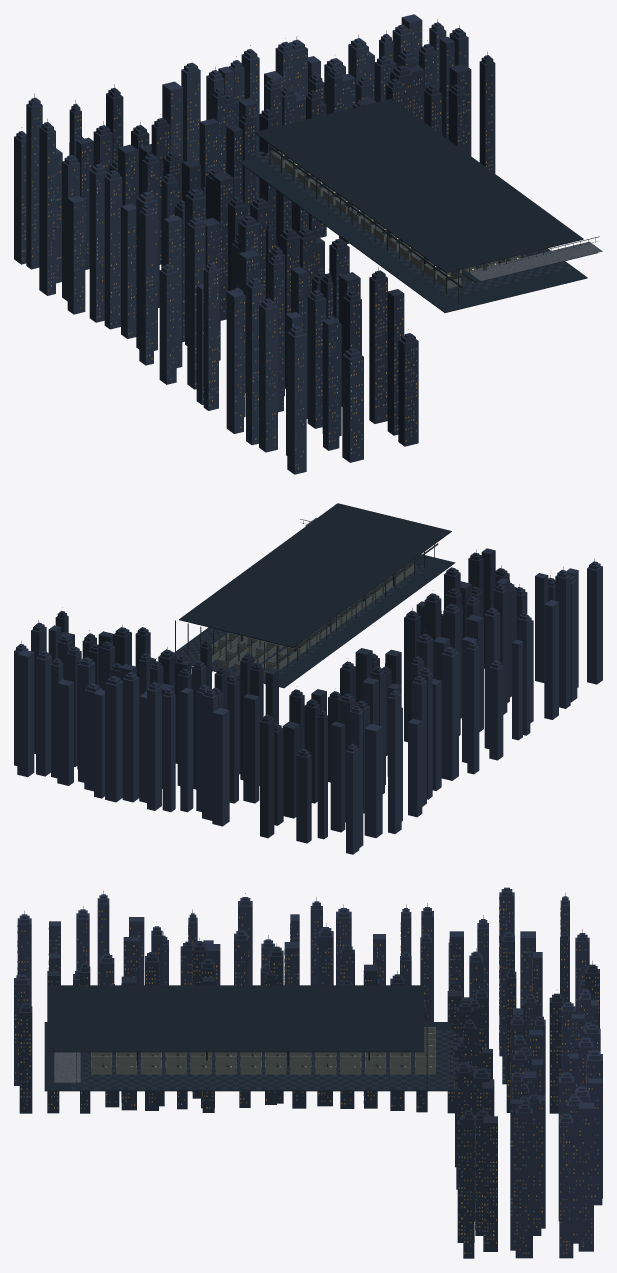
The model's file is canqi-night-office.glb.
3 views of the same model, one above another, from view 1: azimuth 30°, elevation 25°; view 2: azimuth 150°, elevation 25°; view 3: azimuth 270°, elevation 25° (orthographic). The views are drawn at different scales.
Parts seen in each view (by area): view 1: Runtime | City | atmospheric layer 2, Runtime | City | atmospheric layer 0, Runtime | City | atmospheric layer 1, Runtime | Architecture | acoustic ceiling, Runtime | Office | blue charcoal carpet, Runtime | Office | grey green partitions, Runtime | Office | alternating carpet, Runtime | Architecture | graphite metal; view 2: Runtime | City | atmospheric layer 2, Runtime | City | atmospheric layer 1, Runtime | City | atmospheric layer 0, Runtime | Architecture | acoustic ceiling, Runtime | Office | blue charcoal carpet, Runtime | Office | grey green partitions, Runtime | Office | alternating carpet, Runtime | Architecture | graphite metal, Runtime | Office | partition edges; view 3: Runtime | Architecture | acoustic ceiling, Runtime | City | atmospheric layer 2, Runtime | City | atmospheric layer 0, Runtime | City | atmospheric layer 1, Runtime | Office | blue charcoal carpet, Runtime | Office | grey green partitions, Runtime | Office | alternating carpet, Runtime | Office | partition edges.
Part boxes in pixels (x1,y1,x2,y2): Runtime | City | atmospheric layer 2: (14,14,446,474); Runtime | City | atmospheric layer 0: (106,52,495,446); Runtime | City | atmospheric layer 1: (69,25,468,462); Runtime | Architecture | acoustic ceiling: (254,98,583,272); Runtime | Office | blue charcoal carpet: (239,154,597,312); Runtime | Office | grey green partitions: (272,151,525,288); Runtime | Office | alternating carpet: (255,150,571,296); Runtime | Architecture | graphite metal: (269,97,599,303); Runtime | City | atmospheric layer 2: (14,559,602,854); Runtime | City | atmospheric layer 1: (31,573,555,843); Runtime | City | atmospheric layer 0: (55,548,509,838); Runtime | Architecture | acoustic ceiling: (179,503,451,651); Runtime | Office | blue charcoal carpet: (173,554,455,688); Runtime | Office | grey green partitions: (199,564,413,676); Runtime | Office | alternating carpet: (175,563,426,684); Runtime | Architecture | graphite metal: (175,519,438,670); Runtime | Office | partition edges: (199,564,413,671); Runtime | Architecture | acoustic ceiling: (47,985,424,1066); Runtime | City | atmospheric layer 2: (17,887,602,1258); Runtime | City | atmospheric layer 0: (19,938,599,1258); Runtime | City | atmospheric layer 1: (14,924,584,1258); Runtime | Office | blue charcoal carpet: (44,1022,450,1091); Runtime | Office | grey green partitions: (91,1027,435,1074); Runtime | Office | alternating carpet: (71,1030,458,1089); Runtime | Office | partition edges: (91,1027,435,1067).
Size of what is drawn, in the model's own units: 84.56 by 32.53 by 102.
